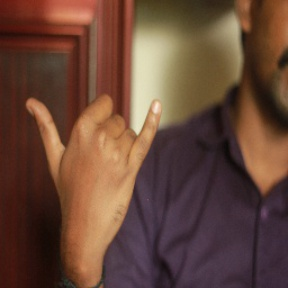J: (23, 74, 165, 223)
